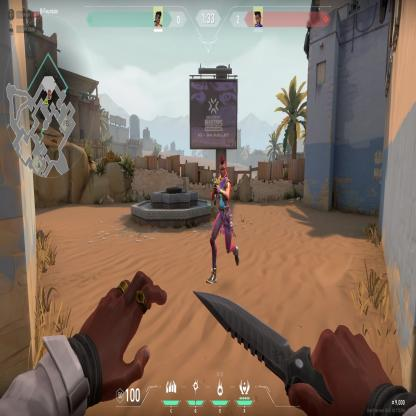enemy: (205, 154, 240, 289)
